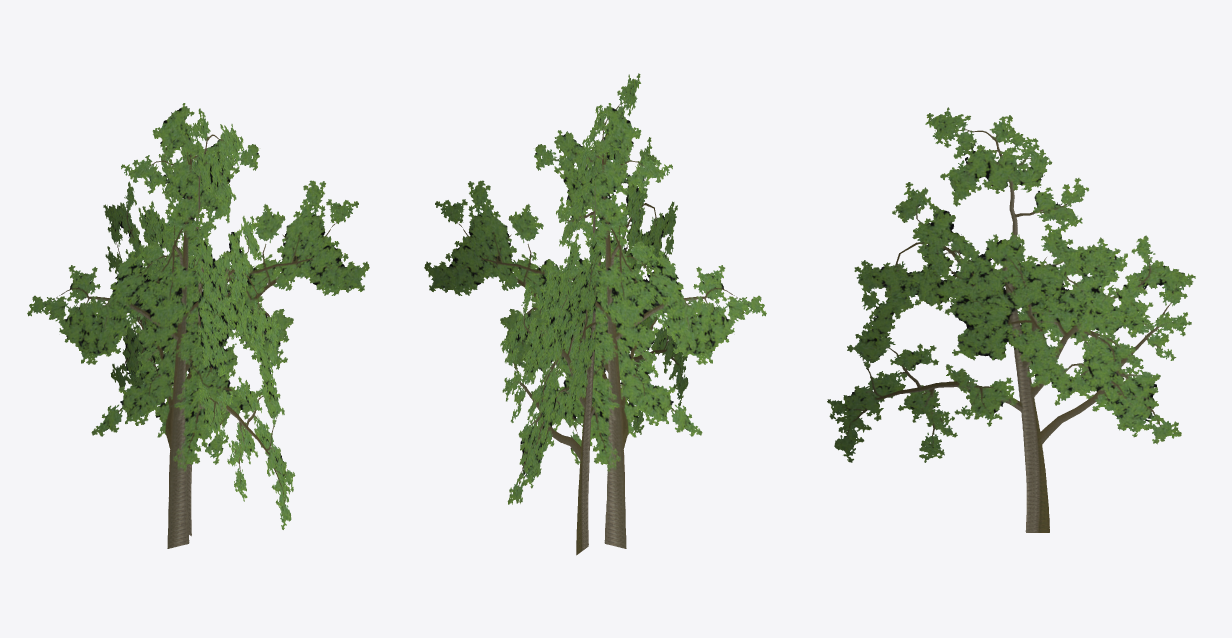
Rendered from ash_lod2.glb.
3 renders of one model, left to right at view 1: azimuth 30°, elevation 25°; view 2: azimuth 150°, elevation 25°; view 3: azimuth 270°, elevation 25°, orthographic. The views are drawn at different scales.
Visible parts, largest first — view 1: card0, card1; view 2: card0, card1; view 3: card1.
Boxes of the visible parts, x1,y1,x2,y2 form: card0: (27, 103, 369, 548); card1: (103, 108, 295, 536); card0: (424, 103, 766, 548); card1: (500, 73, 688, 555); card1: (827, 107, 1195, 532).
Bounding box in the file's own units: 12.14 × 14.28 × 12.14.
Materials: 2 (2 with a texture image).
